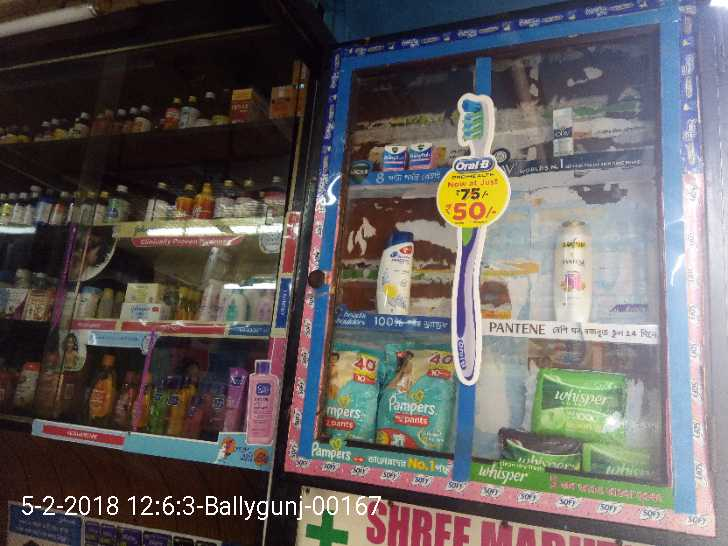vicks: (378, 137, 438, 171)
